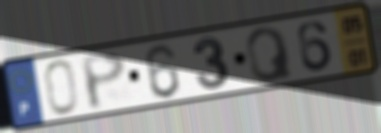0: (41, 57, 83, 119)
3: (192, 34, 231, 93)
6: (143, 41, 183, 102), (295, 20, 335, 74)
P: (78, 49, 129, 113)
Q: (243, 25, 296, 85)
